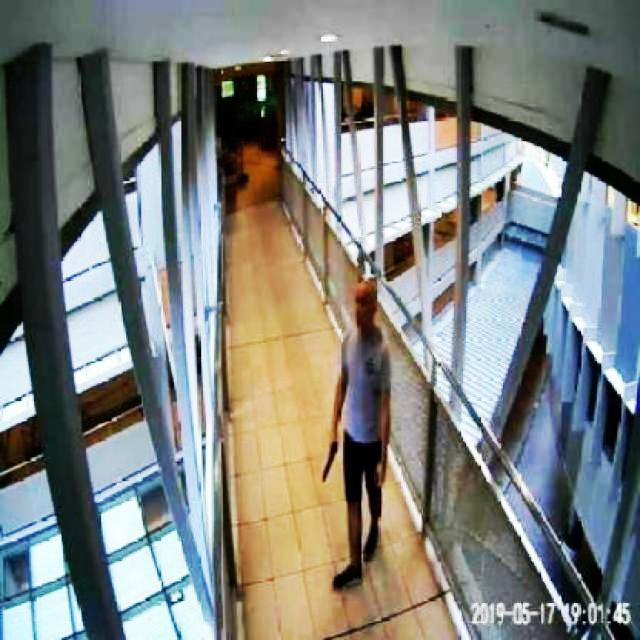Gun: (309, 432, 345, 491)
